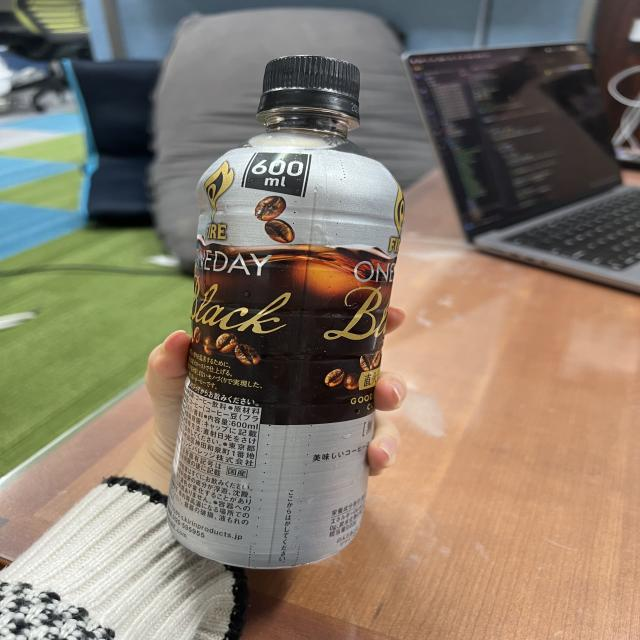coffee-black: (163, 52, 403, 574)
